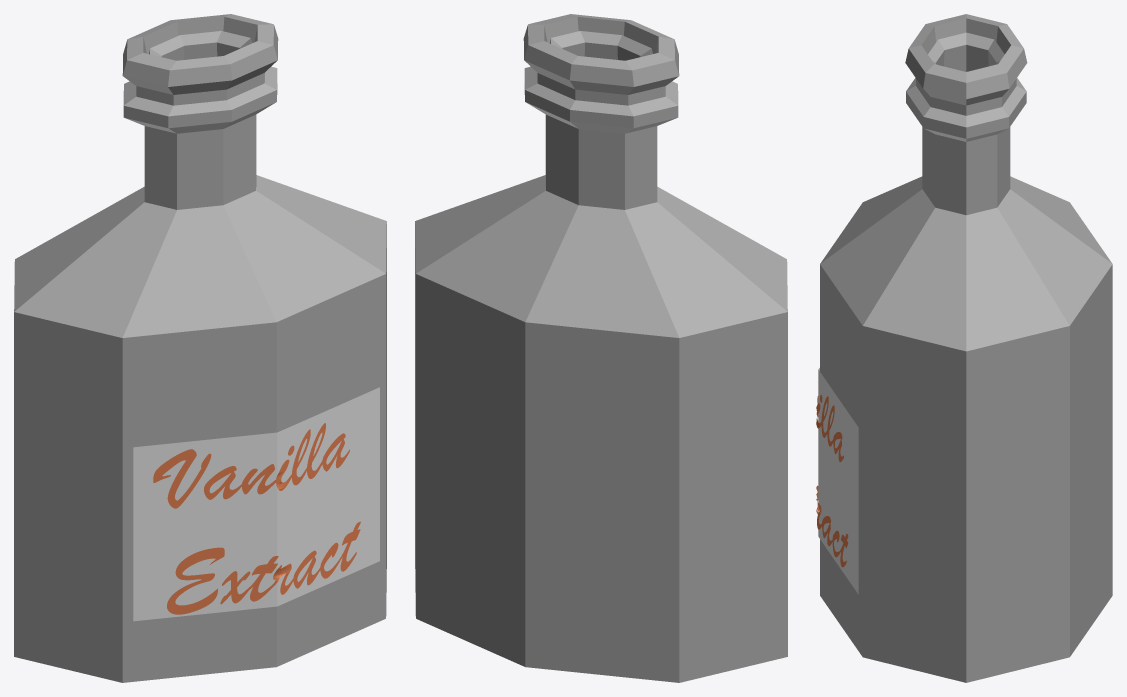
Rendered from Prop masak_Vanilla Extract1.fbx.
The picture shows the model from 3 angles, left to right: view 1: azimuth 30°, elevation 25°; view 2: azimuth 150°, elevation 25°; view 3: azimuth 270°, elevation 25°; orthographic projection. The views are drawn at different scales.
Parts seen in each view (by area): view 1: Vanila Extract Bottle, Plane, Text; view 2: Vanila Extract Bottle; view 3: Vanila Extract Bottle, Plane, Text.
Boxes of the visible parts, <box> form: Vanila Extract Bottle: <box>14,14,386,682</box>; Plane: <box>133,387,379,621</box>; Text: <box>153,423,360,614</box>; Vanila Extract Bottle: <box>415,14,787,682</box>; Vanila Extract Bottle: <box>820,14,1112,682</box>; Plane: <box>818,368,858,594</box>; Text: <box>816,395,848,567</box>.
Size of the model in its own units: 11.99 by 17.6 by 8.59.
